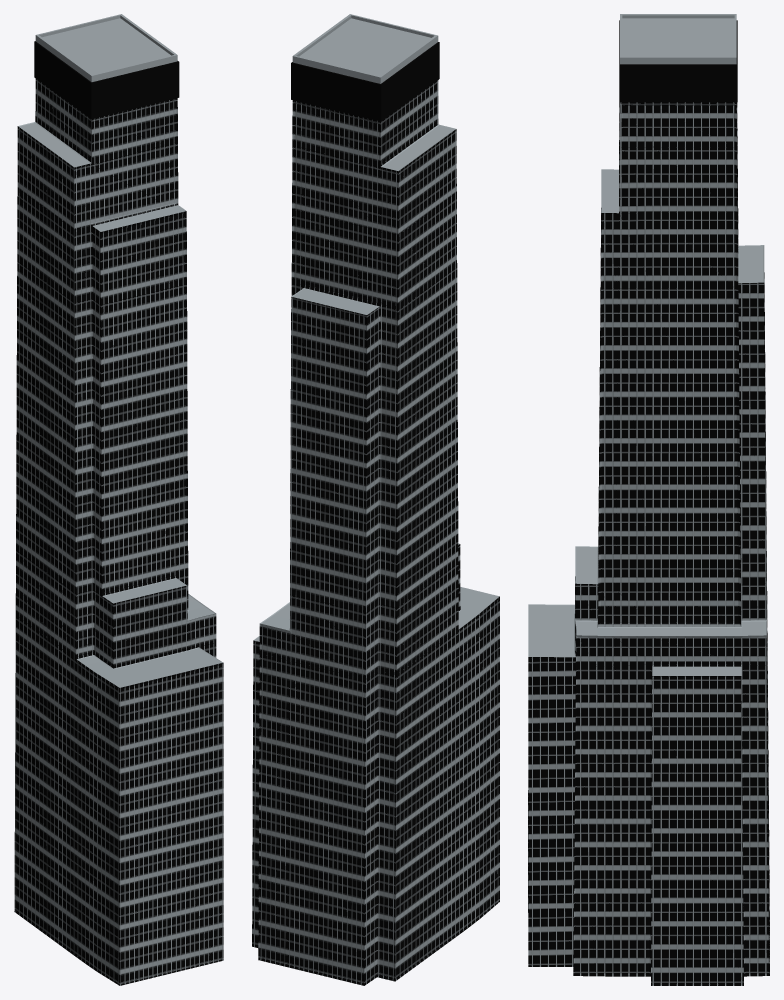
The model's file is WhyNot_Building_High (1).fbx.
3 renders of one model, left to right at view 1: azimuth 30°, elevation 25°; view 2: azimuth 150°, elevation 25°; view 3: azimuth 270°, elevation 25°, orthographic. The views are drawn at different scales.
Visible parts, largest first — view 1: High; view 2: High; view 3: High.
Part boxes in pixels (bbox=[...]): High: bbox=[14, 14, 223, 985]; High: bbox=[252, 14, 499, 985]; High: bbox=[528, 14, 769, 985].
Bounding box in the file's own units: 10303 × 61703 × 14864.
